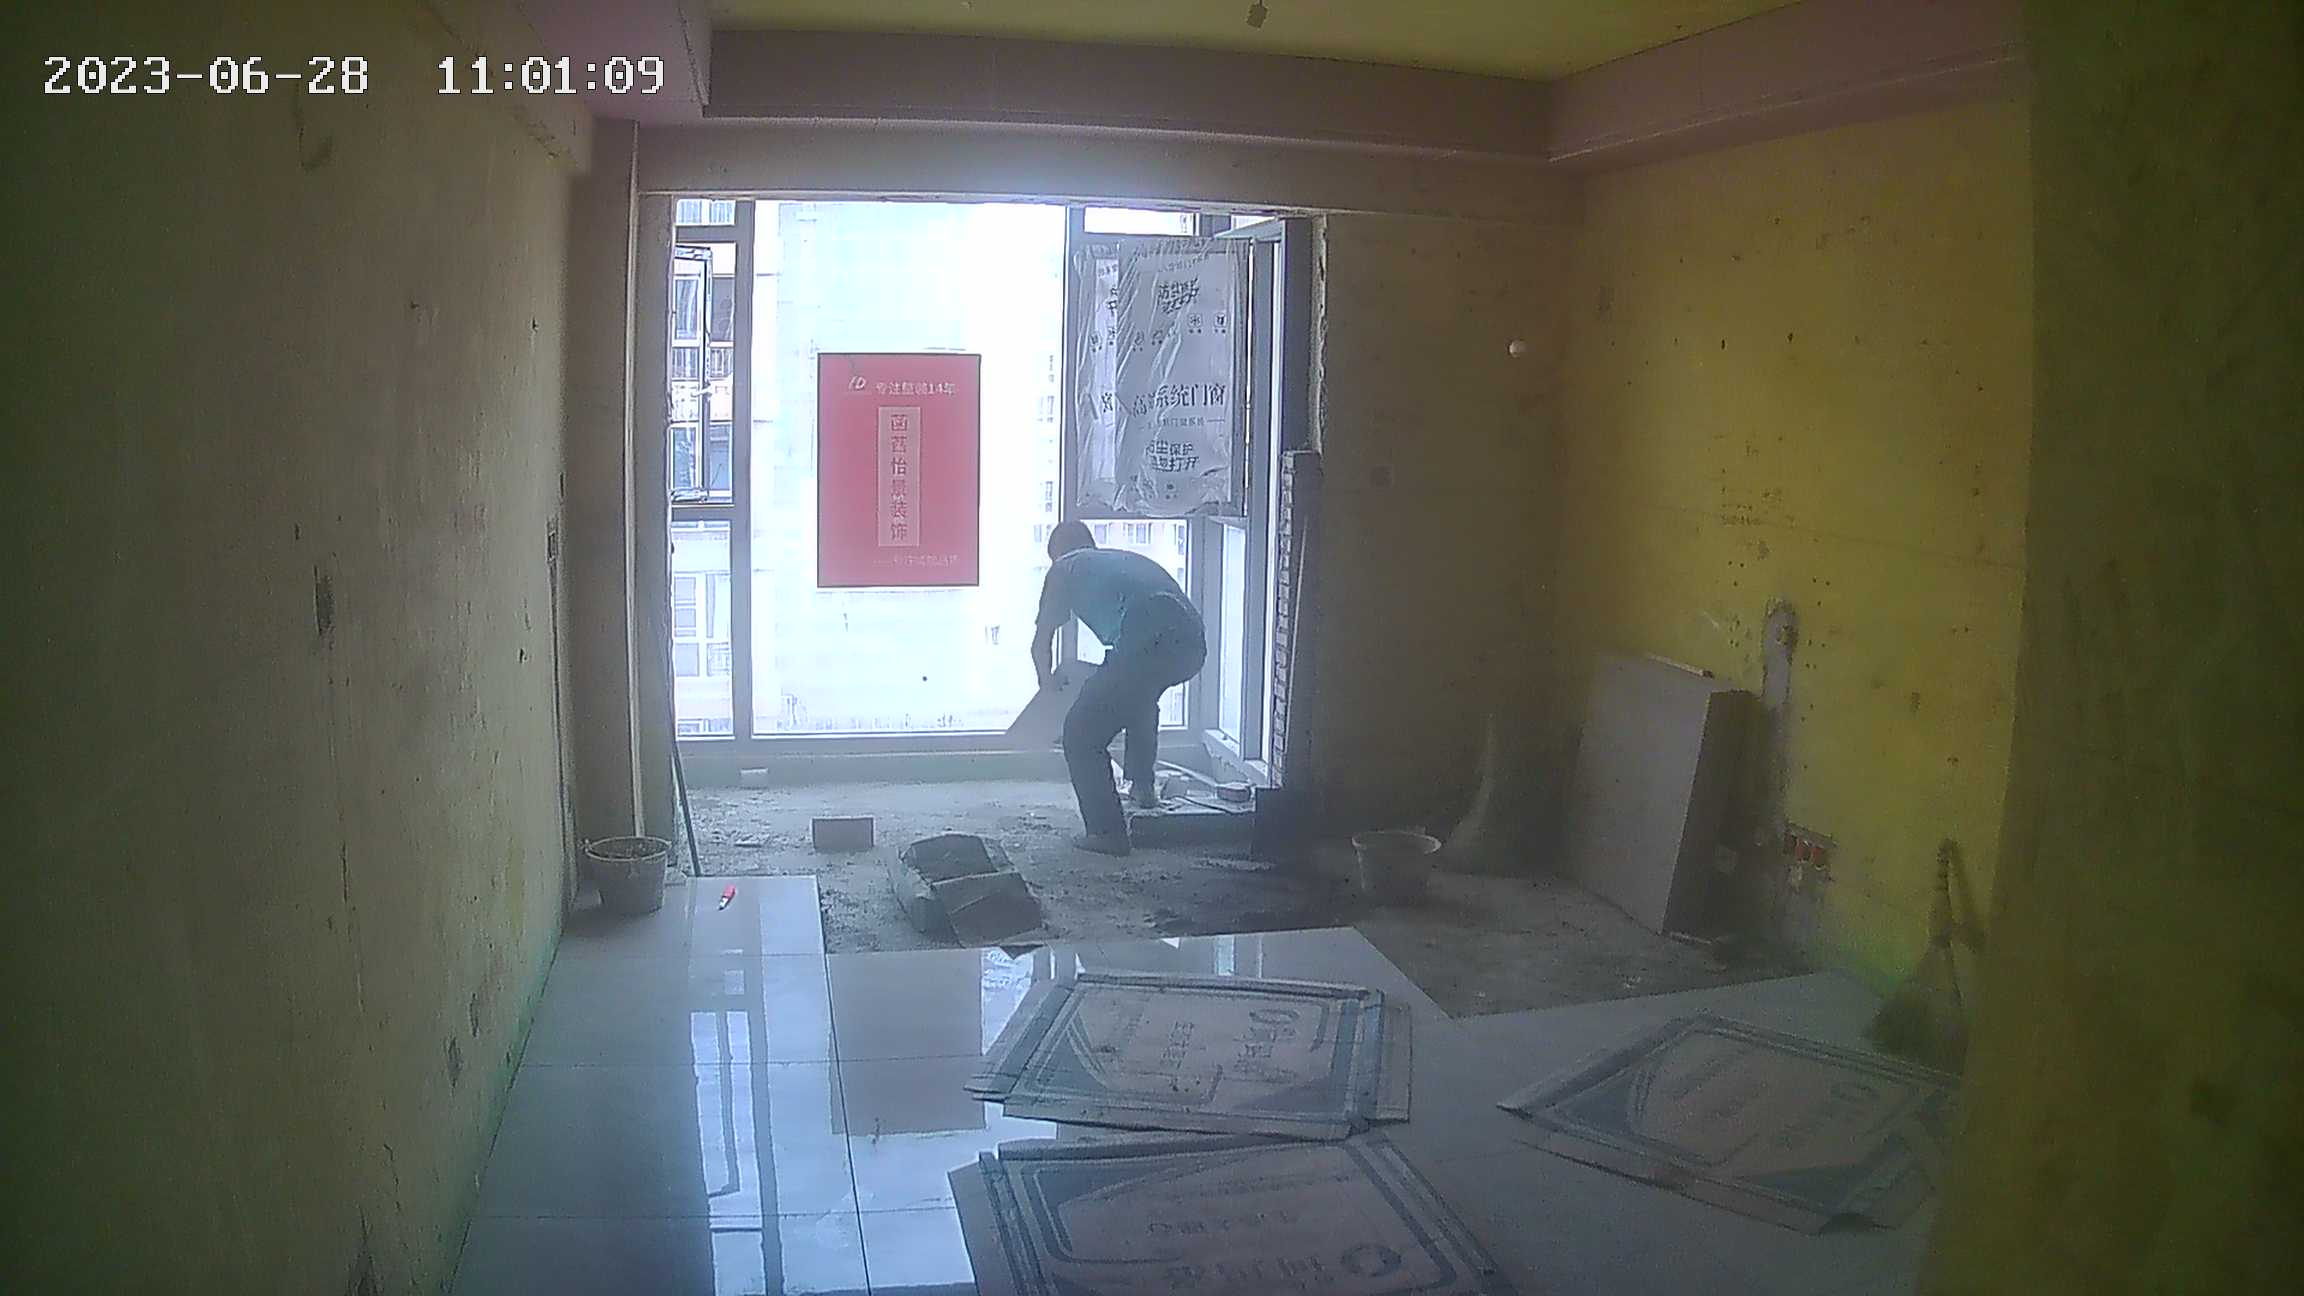people: (1030, 520, 1214, 858)
window: (663, 187, 1277, 763)
